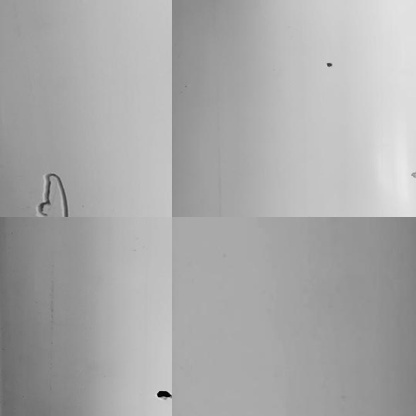fengxi: (31, 170, 73, 219)
kongdong: (155, 386, 171, 401), (324, 59, 337, 71)
